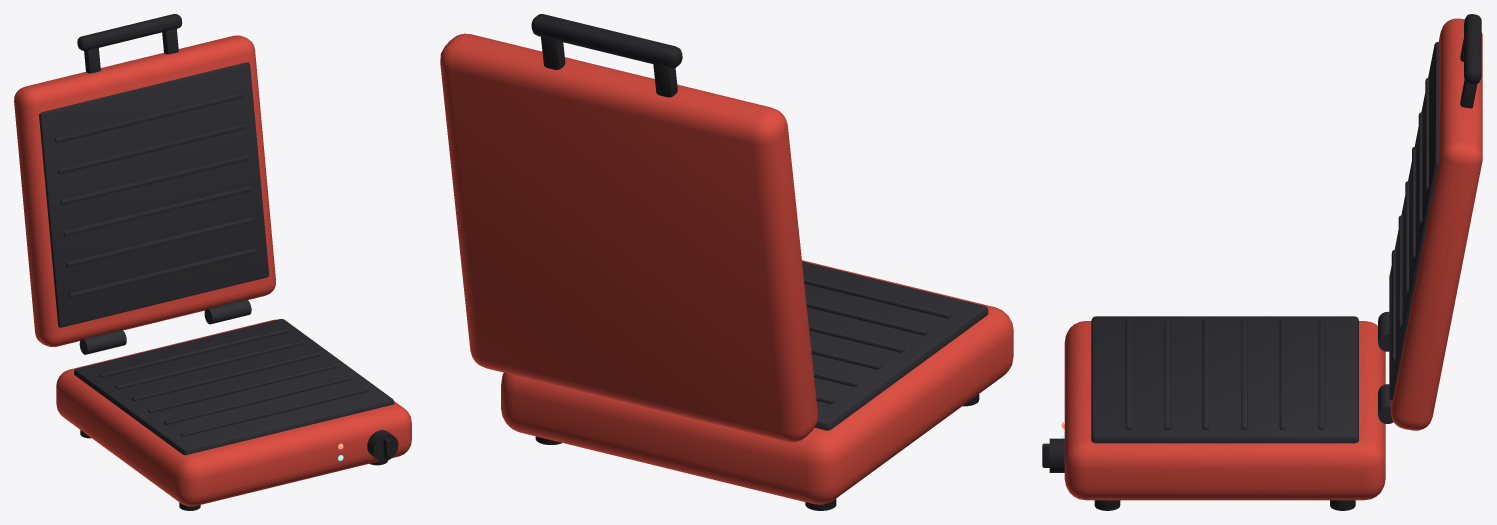
Rendered from Sandwich_Press.fbx.
3 renders of one model, left to right at view 1: azimuth 30°, elevation 25°; view 2: azimuth 150°, elevation 25°; view 3: azimuth 270°, elevation 25°, orthographic. The views are drawn at different scales.
Visible parts, largest first — view 1: Sandwich_Press_Lid, Sandwich_Press; view 2: Sandwich_Press_Lid, Sandwich_Press; view 3: Sandwich_Press, Sandwich_Press_Lid.
Boxes of the visible parts, bbox=[...] form: Sandwich_Press_Lid: bbox=[14, 14, 275, 346]; Sandwich_Press: bbox=[56, 299, 411, 510]; Sandwich_Press_Lid: bbox=[440, 14, 817, 442]; Sandwich_Press: bbox=[501, 260, 1013, 510]; Sandwich_Press: bbox=[1042, 311, 1393, 510]; Sandwich_Press_Lid: bbox=[1389, 14, 1482, 430].
Bounding box in the file's own units: 0.3 × 0.423 × 0.4118.
